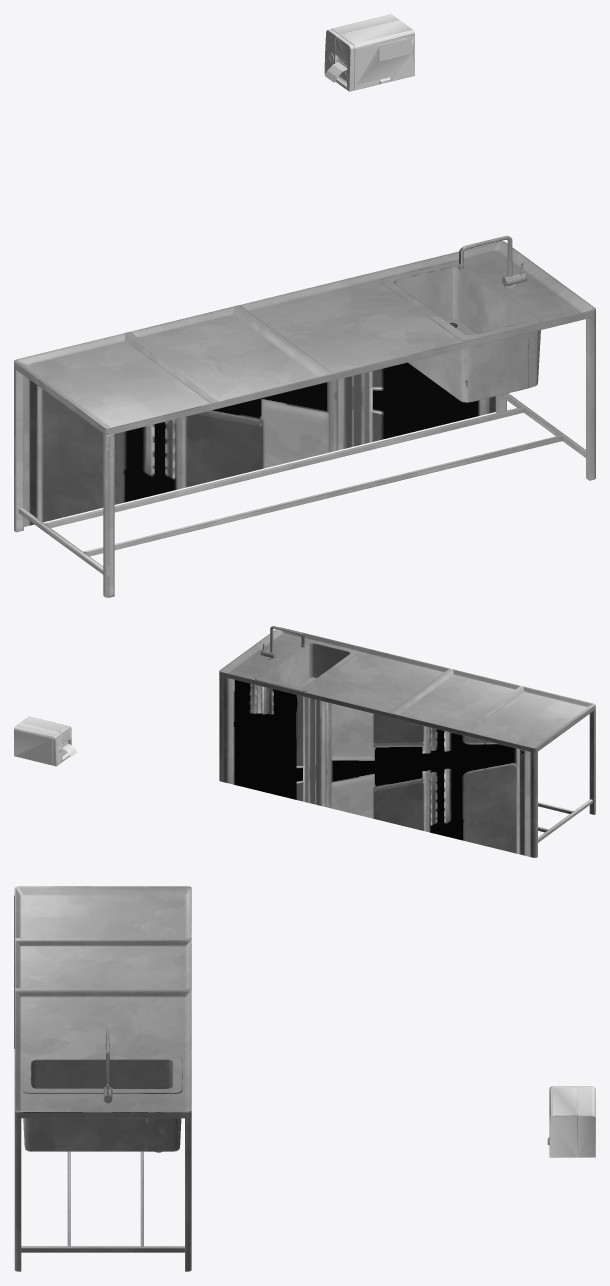
File: TBN.fbx
The picture shows the model from 3 angles, top to bottom: view 1: azimuth 30°, elevation 25°; view 2: azimuth 150°, elevation 25°; view 3: azimuth 270°, elevation 25°; orthographic projection. The views are drawn at different scales.
Parts seen in each view (by area): view 1: TableSink, model_7, TableSink.001; view 2: TableSink, model_7, TableSink.001; view 3: TableSink, model_7.
Boxes of the visible parts, x1=… form: TableSink: x1=14, y1=241, x2=595, y2=597; model_7: x1=324, y1=14, x2=414, y2=91; TableSink.001: x1=458, y1=235, x2=526, y2=288; TableSink: x1=219, y1=627, x2=595, y2=857; model_7: x1=14, y1=716, x2=77, y2=766; TableSink.001: x1=260, y1=626, x2=304, y2=660; TableSink: x1=14, y1=886, x2=191, y2=1271; model_7: x1=547, y1=1086, x2=595, y2=1157.
Bounding box in the file's own units: 291 × 102 × 263.
Materials: 2 (2 with a texture image).
